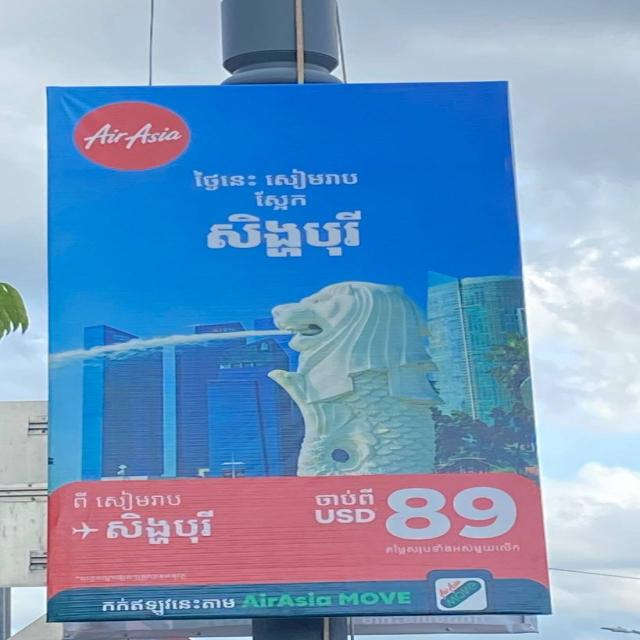Yolov11kh: (172, 210, 383, 269), (375, 484, 521, 545), (97, 510, 228, 557), (176, 164, 374, 192), (63, 485, 195, 515), (86, 592, 234, 616), (299, 484, 381, 512), (234, 194, 320, 212)
